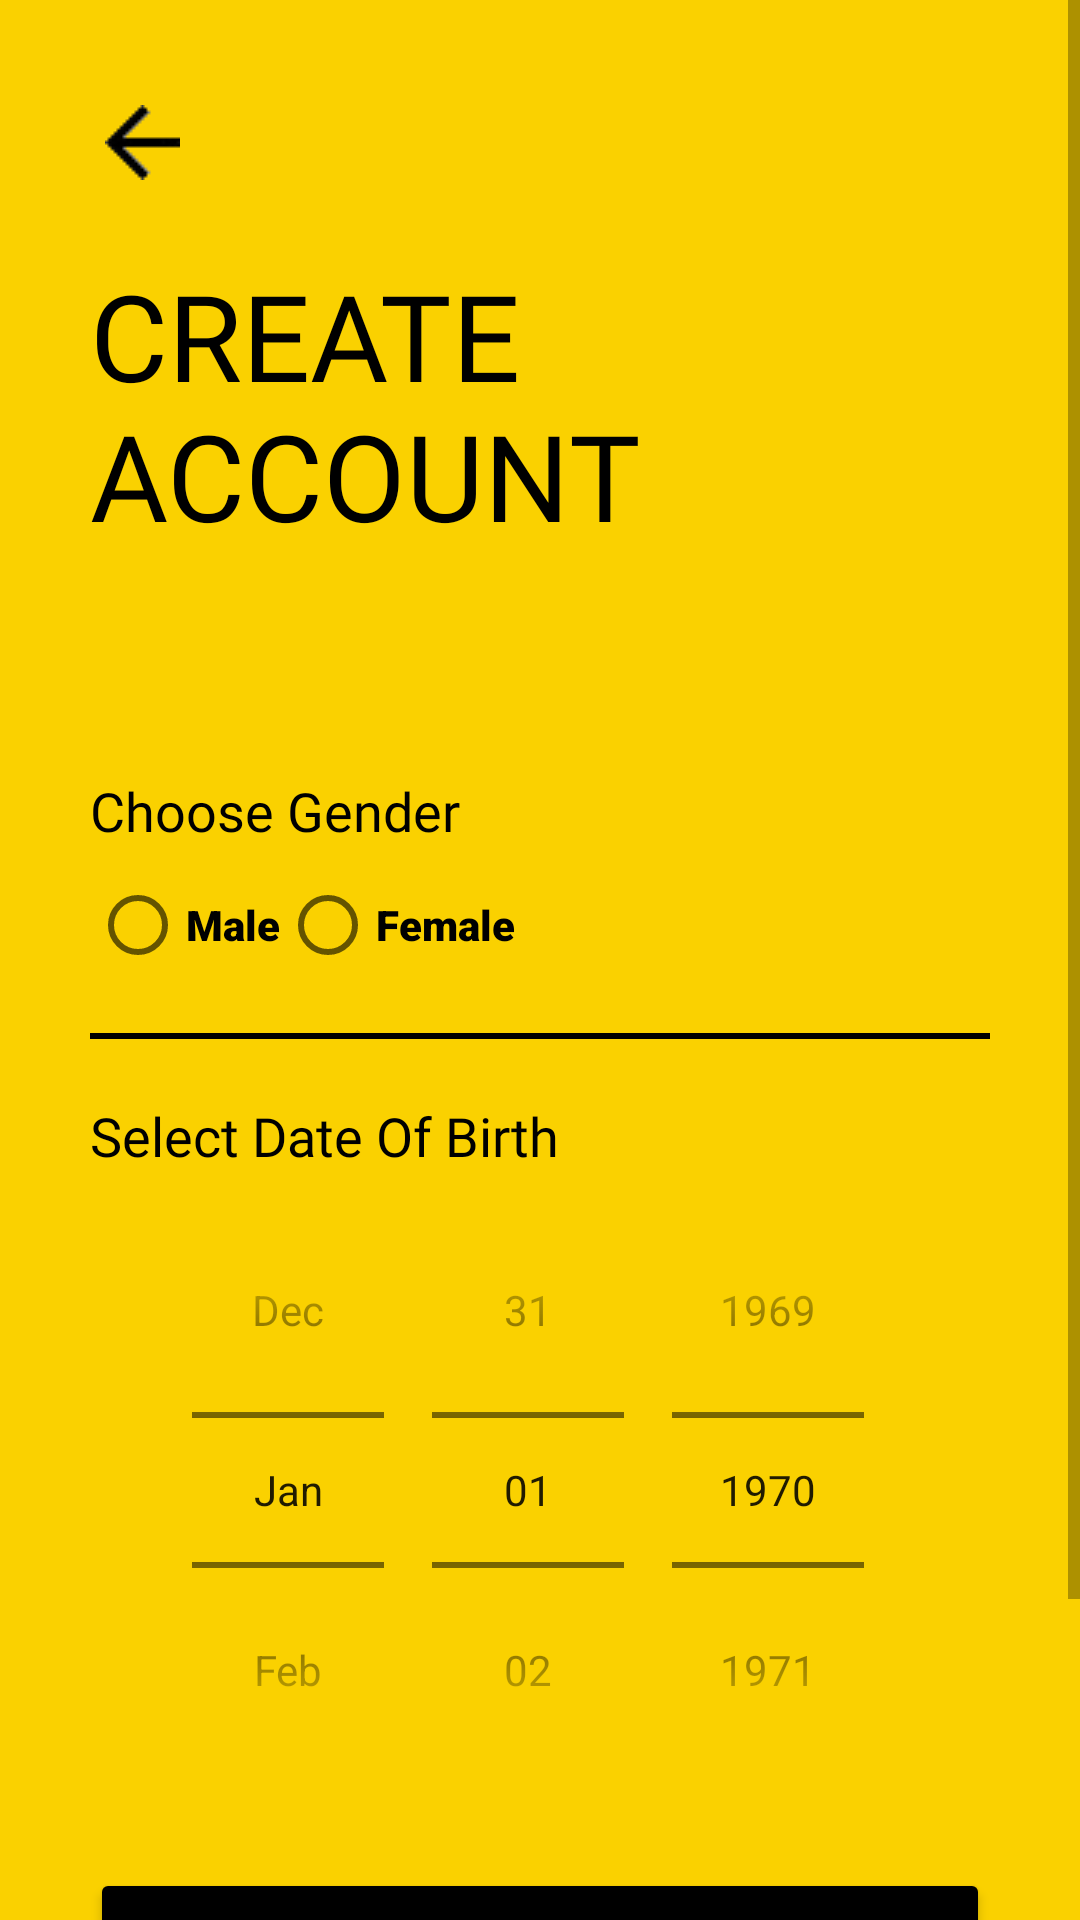

Named icons in this screenshot (1080 x 1920) and their bounding boxes, [x1, y1, x2, y2]:
general back: [105, 105, 180, 180]
